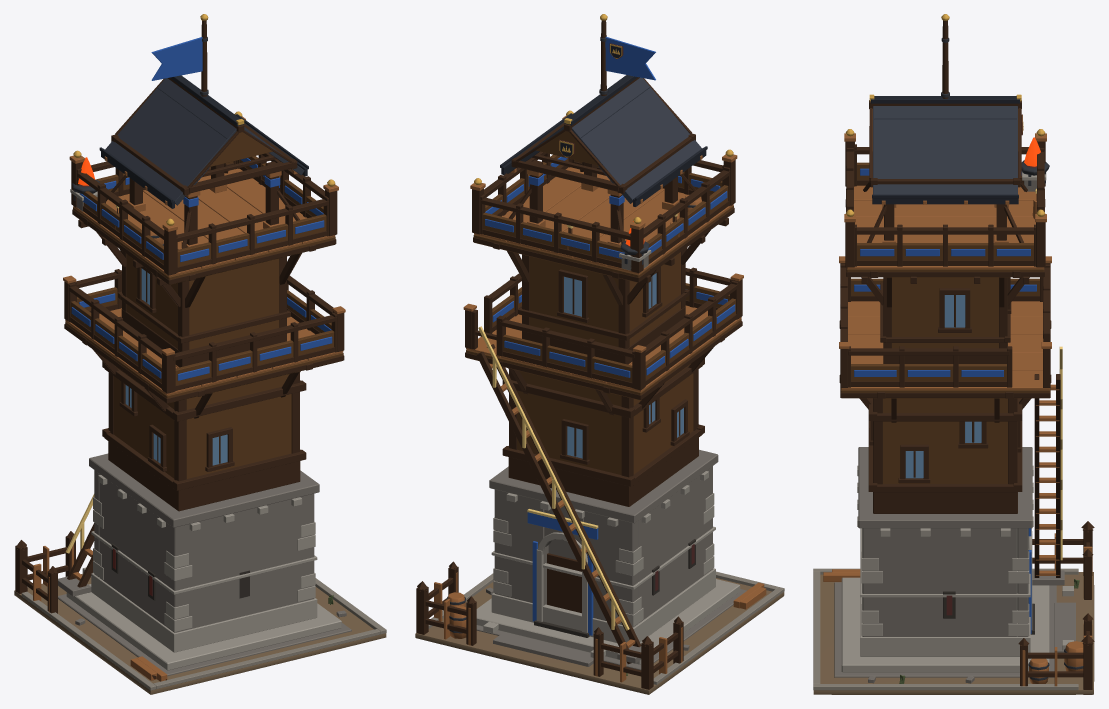
The picture shows the model from 3 angles, left to right: view 1: azimuth 30°, elevation 25°; view 2: azimuth 150°, elevation 25°; view 3: azimuth 270°, elevation 25°; orthographic projection. The views are drawn at different scales.
Visible parts, largest first — view 1: WT-wood_dark, WT-wood_mid, WT-stone_mid, WT-stone_light, WT-wood_warm, WT-roof, WT-team, WT-earth, WT-paving, WT-roof_edge, WT-glass, WT-stone_dark; view 2: WT-wood_dark, WT-wood_mid, WT-stone_mid, WT-stone_light, WT-wood_warm, WT-roof, WT-team, WT-earth, WT-team_trim, WT-roof_edge, WT-paving, WT-glass (+1 smaller); view 3: WT-wood_dark, WT-stone_mid, WT-wood_mid, WT-wood_warm, WT-stone_light, WT-roof, WT-earth, WT-paving, WT-roof_edge, WT-team, WT-glass, WT-team_trim (+1 smaller).
Boxes of the visible parts, bbox=[...] form: WT-wood_dark: bbox=[15, 20, 344, 680]; WT-wood_mid: bbox=[65, 132, 343, 478]; WT-stone_mid: bbox=[58, 197, 351, 676]; WT-stone_light: bbox=[66, 189, 341, 670]; WT-wood_warm: bbox=[33, 116, 345, 681]; WT-roof: bbox=[105, 78, 304, 205]; WT-team: bbox=[71, 37, 332, 380]; WT-earth: bbox=[14, 573, 386, 694]; WT-paving: bbox=[21, 578, 386, 690]; WT-roof_edge: bbox=[99, 75, 308, 208]; WT-glass: bbox=[125, 268, 227, 465]; WT-stone_dark: bbox=[111, 543, 249, 600]; WT-wood_dark: bbox=[416, 20, 742, 689]; WT-wood_mid: bbox=[466, 131, 741, 474]; WT-stone_mid: bbox=[476, 255, 746, 670]; WT-stone_light: bbox=[476, 250, 740, 664]; WT-wood_warm: bbox=[434, 115, 766, 682]; WT-roof: bbox=[504, 77, 701, 203]; WT-team: bbox=[485, 37, 735, 635]; WT-earth: bbox=[415, 578, 784, 694]; WT-team_trim: bbox=[478, 213, 677, 630]; WT-roof_edge: bbox=[500, 45, 707, 206]; WT-paving: bbox=[428, 571, 784, 684]; WT-glass: bbox=[564, 273, 683, 458]; WT-wood_dark: bbox=[839, 20, 1094, 694]; WT-stone_mid: bbox=[834, 180, 1075, 683]; WT-wood_mid: bbox=[840, 109, 1050, 483]; WT-wood_warm: bbox=[823, 133, 1092, 686]; WT-stone_light: bbox=[841, 172, 1073, 672]; WT-roof: bbox=[873, 106, 1017, 194]; WT-earth: bbox=[813, 572, 1094, 694]; WT-paving: bbox=[813, 568, 1078, 690]; WT-roof_edge: bbox=[871, 96, 1019, 204]; WT-team: bbox=[854, 168, 1036, 633]; WT-glass: bbox=[905, 295, 981, 478]; WT-team_trim: bbox=[1035, 188, 1062, 560].
Bounding box in the file's own units: 7.14 × 17.34 × 7.11.
